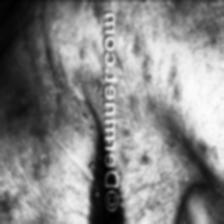Non-Cancerous Skin Condition: (0, 50, 70, 220), (166, 65, 186, 105), (142, 52, 156, 84)
